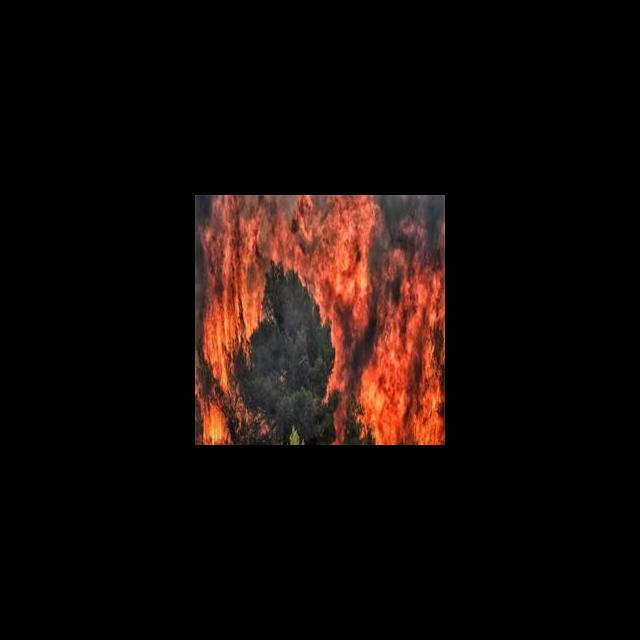Fire: (331, 200, 444, 444), (195, 198, 260, 444), (261, 197, 338, 305)
